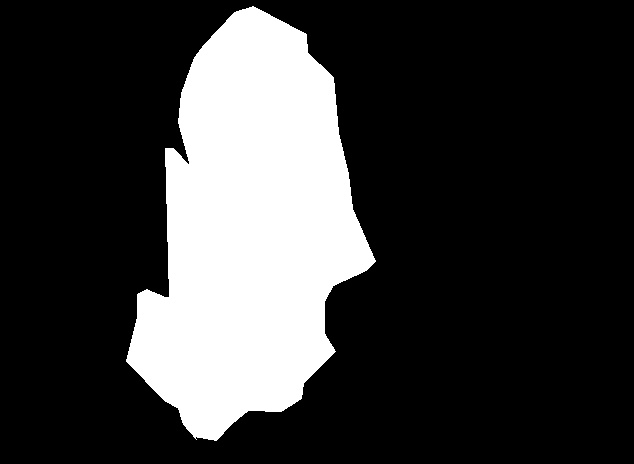Fire: (121, 300, 348, 443)
